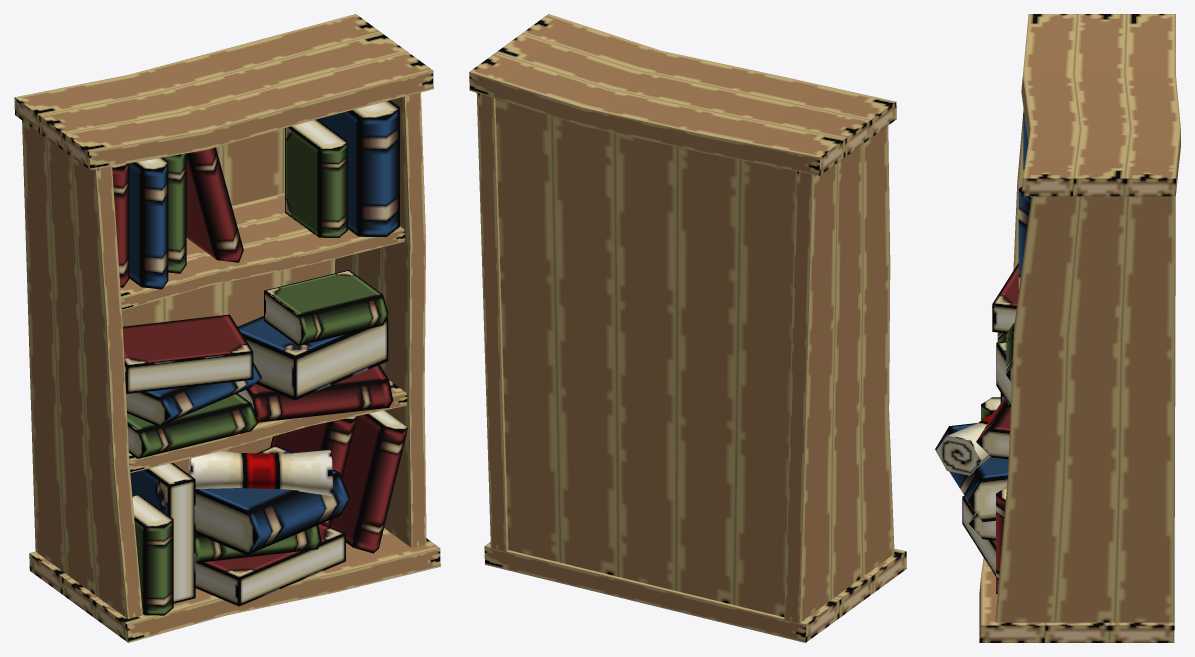
The model's file is deco_cathedral_bookCase_A.FBX.
3 renders of one model, left to right at view 1: azimuth 30°, elevation 25°; view 2: azimuth 150°, elevation 25°; view 3: azimuth 270°, elevation 25°, orthographic. The views are drawn at different scales.
Visible parts, largest first — view 1: deco_cathedral_bookCase_A; view 2: deco_cathedral_bookCase_A; view 3: deco_cathedral_bookCase_A.
Part boxes in pixels (box(x1,y1,x2,y2)): deco_cathedral_bookCase_A: box(14, 14, 440, 642); deco_cathedral_bookCase_A: box(469, 14, 906, 642); deco_cathedral_bookCase_A: box(935, 14, 1180, 642).
Size of the model in its own units: 3 by 4 by 1.89.
1 material, 1 textured.
